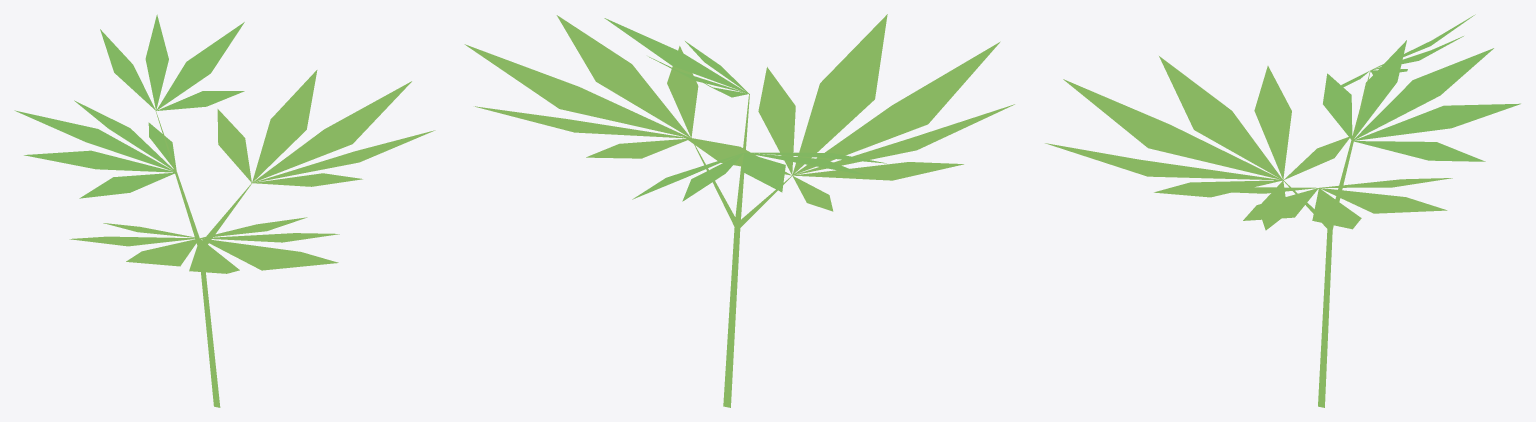
File: Plant_i_TwoS_02.fbx
3 views of the same model, side by side, from view 1: azimuth 30°, elevation 25°; view 2: azimuth 150°, elevation 25°; view 3: azimuth 270°, elevation 25° (orthographic). The views are drawn at different scales.
Parts seen in each view (by area): view 1: Plant_i_TwoS_02; view 2: Plant_i_TwoS_02; view 3: Plant_i_TwoS_02.
Part boxes in pixels (x1,y1,x2,y2): Plant_i_TwoS_02: [14, 14, 435, 407]; Plant_i_TwoS_02: [464, 14, 1014, 407]; Plant_i_TwoS_02: [1045, 14, 1520, 407].
Bounding box in the file's own units: 0.8273 × 0.7085 × 0.8201.
